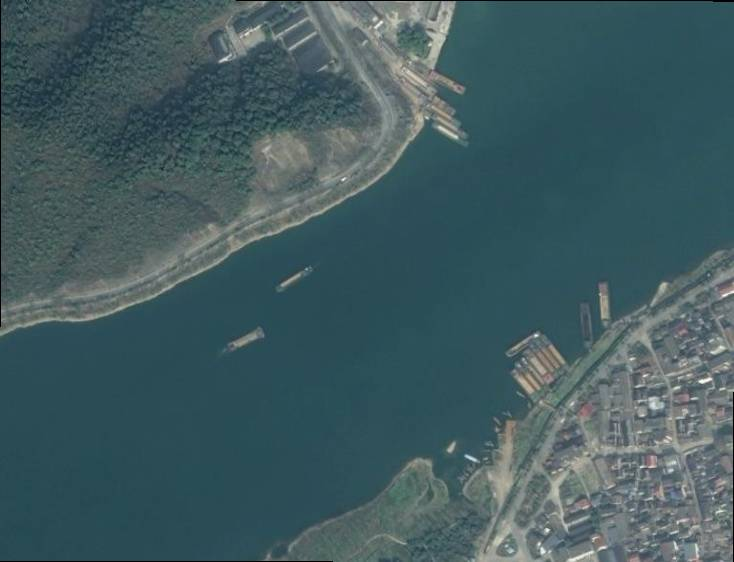ship: (524, 348, 556, 386), (534, 339, 565, 377), (530, 342, 560, 381), (539, 335, 570, 372), (521, 356, 550, 394), (516, 363, 546, 398), (227, 327, 265, 354), (511, 369, 541, 403), (505, 331, 541, 358), (277, 266, 313, 292), (580, 302, 593, 347), (600, 283, 610, 327)
